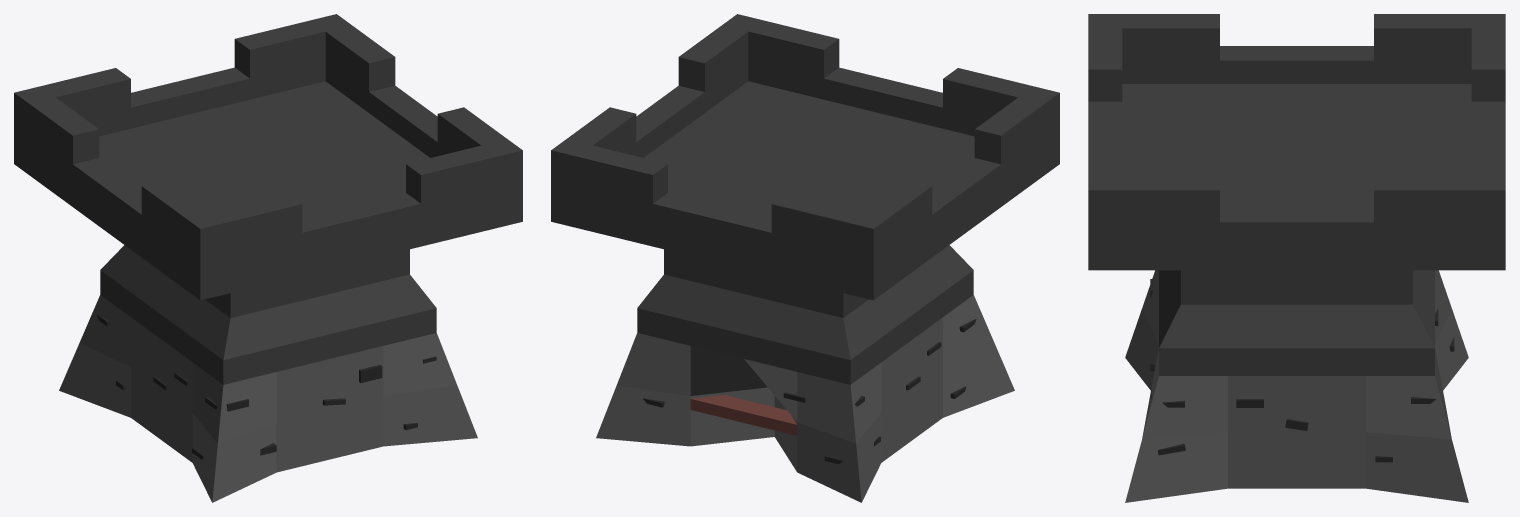
The model's file is OrcAttackCastle.fbx.
3 renders of one model, left to right at view 1: azimuth 30°, elevation 25°; view 2: azimuth 150°, elevation 25°; view 3: azimuth 270°, elevation 25°, orthographic. The views are drawn at different scales.
Visible parts, largest first — view 1: CastleUpper, CastleLower; view 2: CastleUpper, CastleLower; view 3: CastleUpper, CastleLower.
Part boxes in pixels (left/top/right/bottom): CastleUpper: left=14, top=14, right=522, bottom=300; CastleLower: left=59, top=245, right=477, bottom=502; CastleUpper: left=551, top=14, right=1059, bottom=300; CastleLower: left=596, top=245, right=1014, bottom=502; CastleUpper: left=1088, top=14, right=1505, bottom=280; CastleLower: left=1125, top=270, right=1468, bottom=502.
Bounding box in the file's own units: 3023 × 2624 × 3023.
